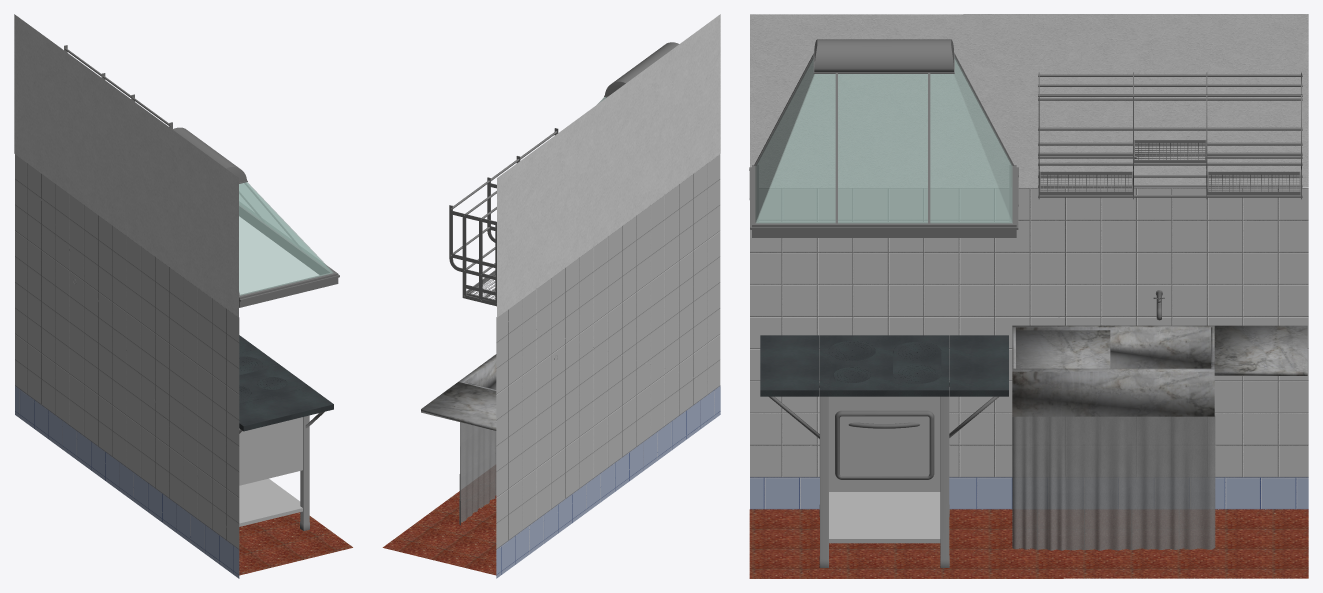
File: stove_sink_dish_drainer_kitchen_hood.glb
3 views of the same model, side by side, from view 1: azimuth 30°, elevation 25°; view 2: azimuth 150°, elevation 25°; view 3: azimuth 270°, elevation 25° (orthographic). The views are drawn at different scales.
Parts seen in each view (by area): view 1: tiles, plaster, skirting, outer_glass, inner_glass, enamelled_parts, stove_top, floor, lower_part, chrome_parts, upper_part; view 2: tiles, plaster, skirting, floor, curtain, sink, dish_drainer, upper_part; view 3: tiles, plaster, outer_glass, inner_glass, curtain, floor, sink, stove_top, enamelled_parts, dish_drainer, skirting, lower_part (+2 smaller).
Boxes of the visible parts, x1,y1,x2,y2 form: tiles: (15, 154, 239, 549); plaster: (14, 14, 238, 317); skirting: (15, 386, 239, 578); outer_glass: (239, 182, 333, 295); inner_glass: (239, 182, 331, 294); enamelled_parts: (239, 417, 302, 526); stove_top: (239, 335, 333, 431); floor: (239, 512, 352, 575); lower_part: (239, 180, 339, 307); chrome_parts: (239, 411, 324, 530); upper_part: (172, 127, 246, 182); tiles: (496, 154, 720, 549); plaster: (497, 14, 720, 317); skirting: (496, 386, 720, 578); floor: (382, 491, 496, 575); curtain: (459, 422, 496, 525); sink: (421, 354, 496, 430); dish_drainer: (449, 128, 558, 306); upper_part: (605, 42, 679, 96); tiles: (750, 188, 1308, 477); plaster: (750, 14, 1308, 187); outer_glass: (755, 57, 1012, 223); inner_glass: (757, 61, 1011, 222); curtain: (1012, 416, 1215, 550); floor: (749, 509, 1308, 578); sink: (1012, 325, 1307, 416); stove_top: (760, 335, 1008, 396); enamelled_parts: (829, 396, 940, 543); dish_drainer: (1038, 72, 1302, 199); skirting: (750, 477, 1308, 509); lower_part: (749, 53, 1018, 237).
Size of the model in its own units: 0.7002 by 2.33 by 2.37.
13 materials, 8 textured.
